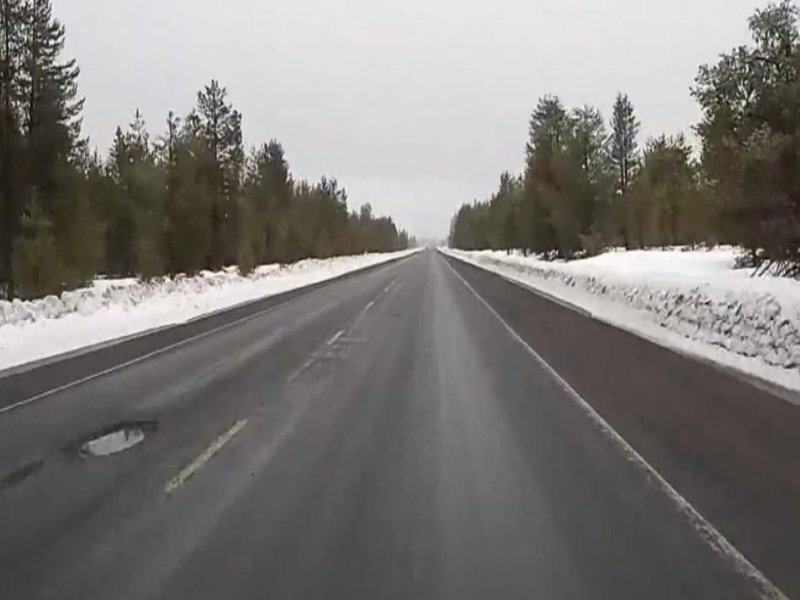pothole: (73, 417, 157, 467)
